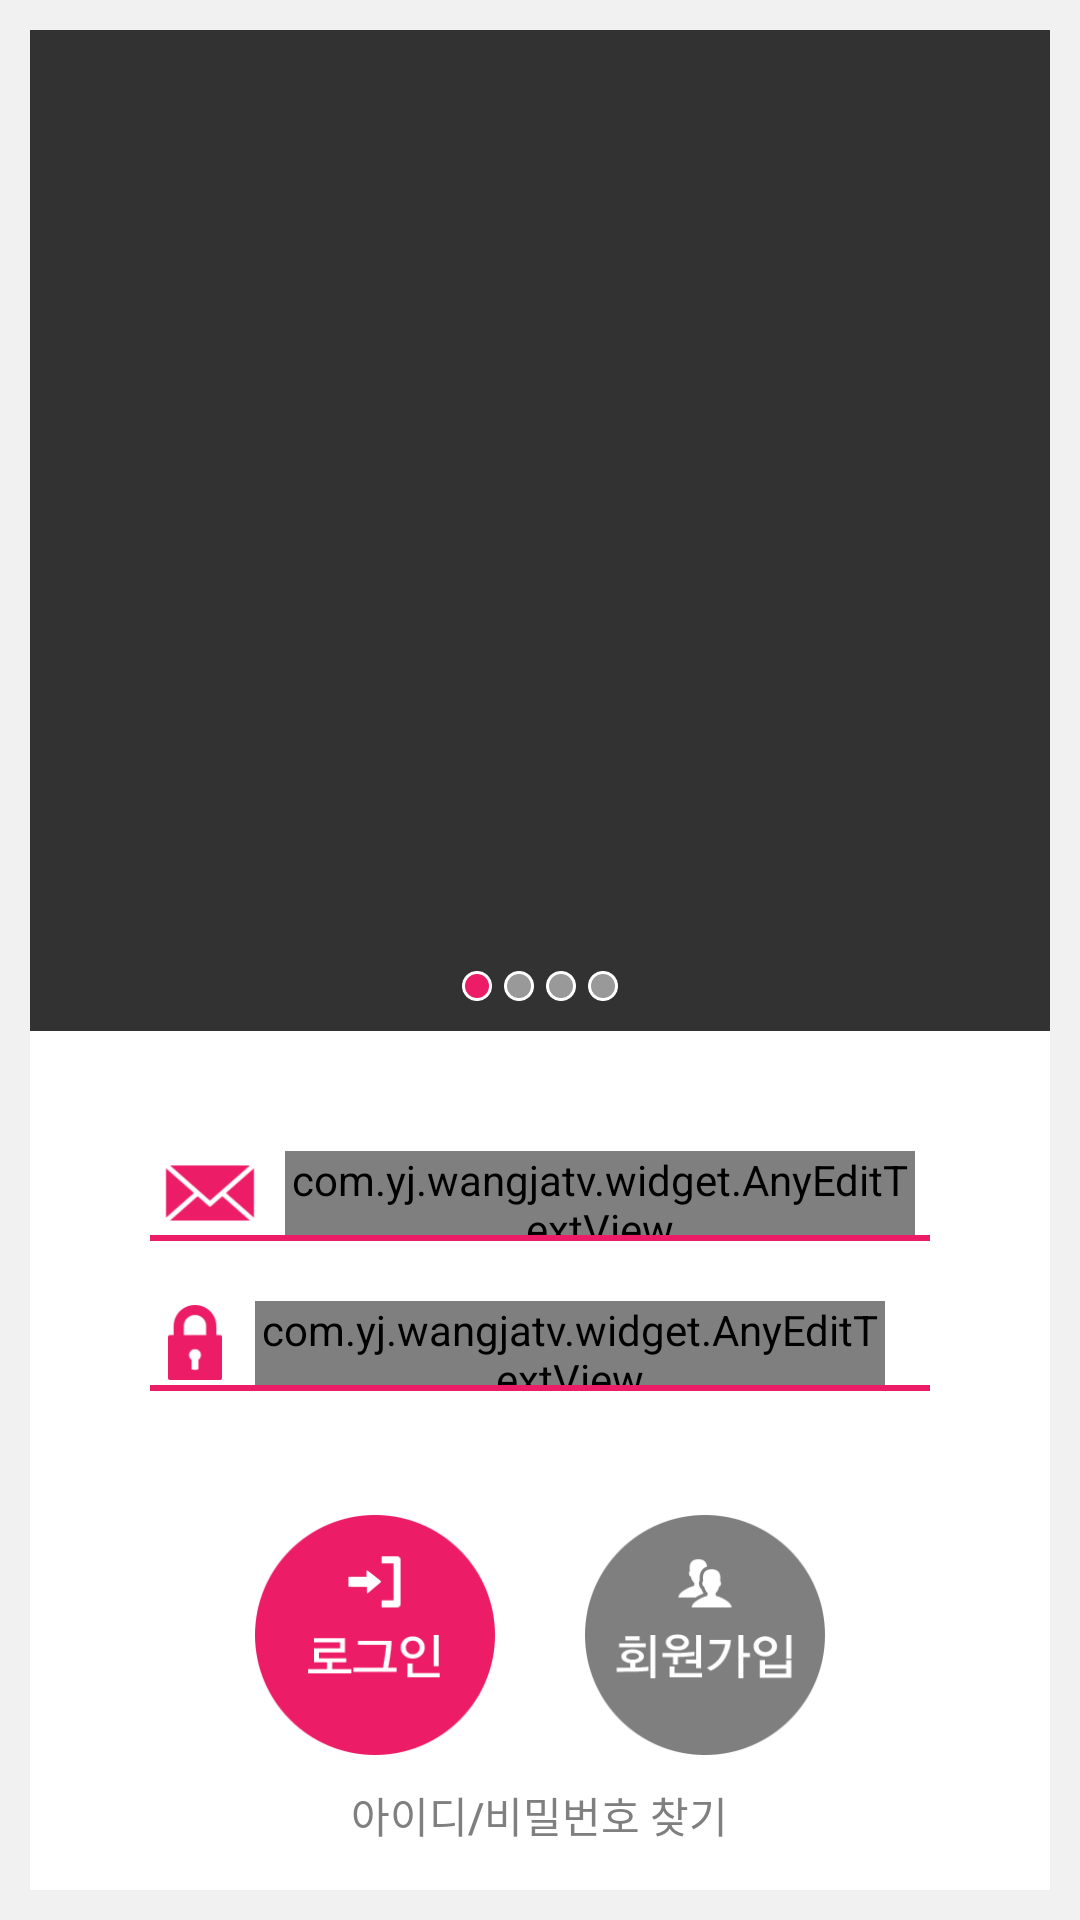

Named icons in this screenshot (1080 x 1920) and their bounding boxes, (x1, y1, x2, y2):
email: (165, 1165, 255, 1221)
indicator off: (504, 971, 534, 1001), (546, 971, 576, 1001), (588, 971, 618, 1001)
indicator on: (462, 971, 492, 1001)
passwd: (168, 1305, 222, 1380)
